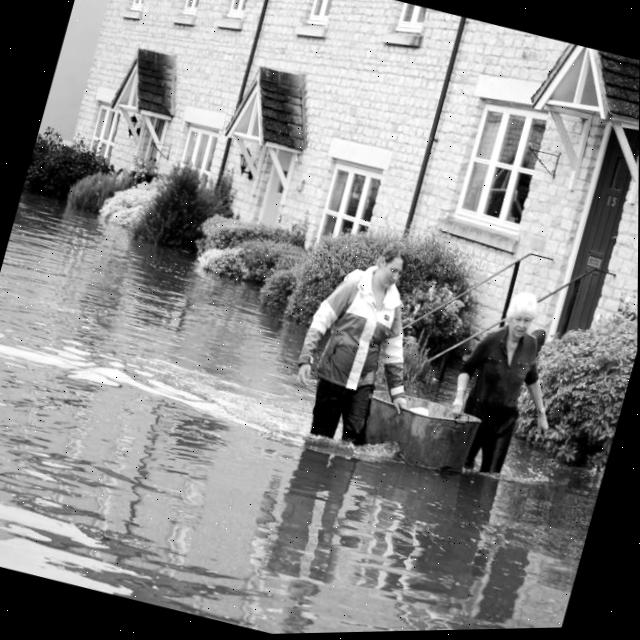civilian: (276, 224, 450, 458), (424, 275, 583, 492)
